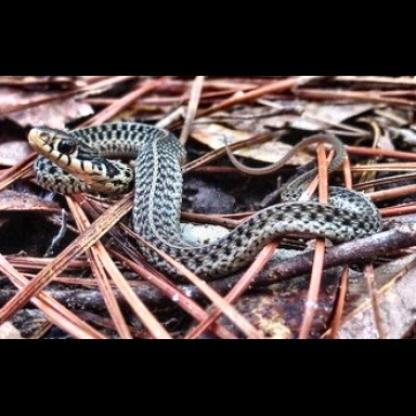Snake: (16, 107, 385, 274)
